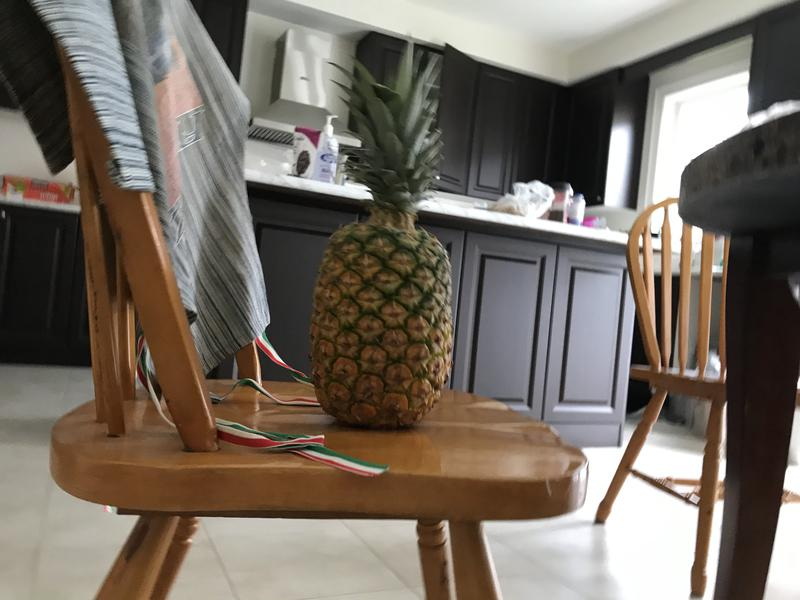pineapple: (299, 29, 460, 438)
